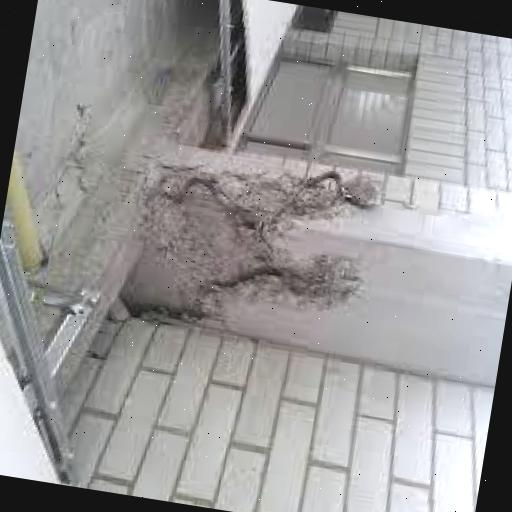spalling: (142, 168, 372, 320)
